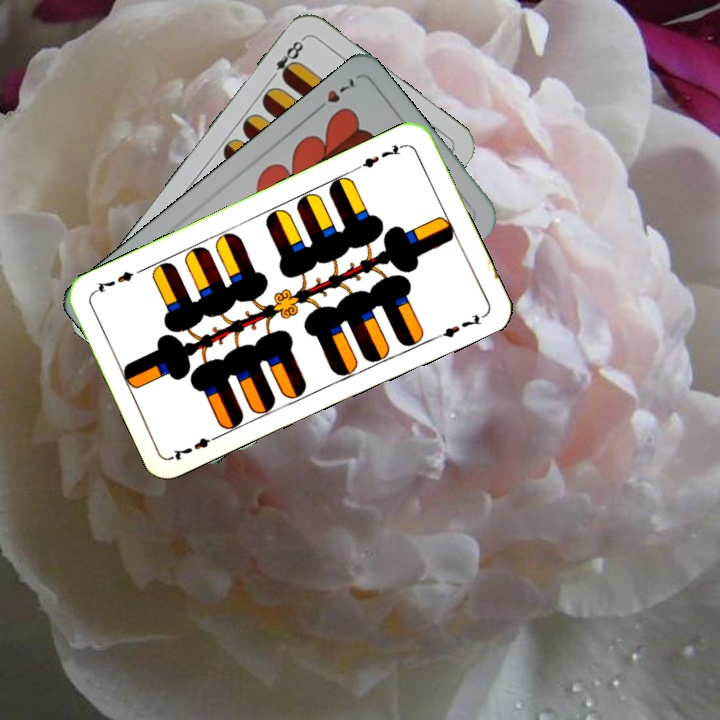E7: (353, 139, 408, 173), (169, 430, 224, 463)
E8: (265, 34, 307, 84)
H7: (310, 73, 357, 116)
